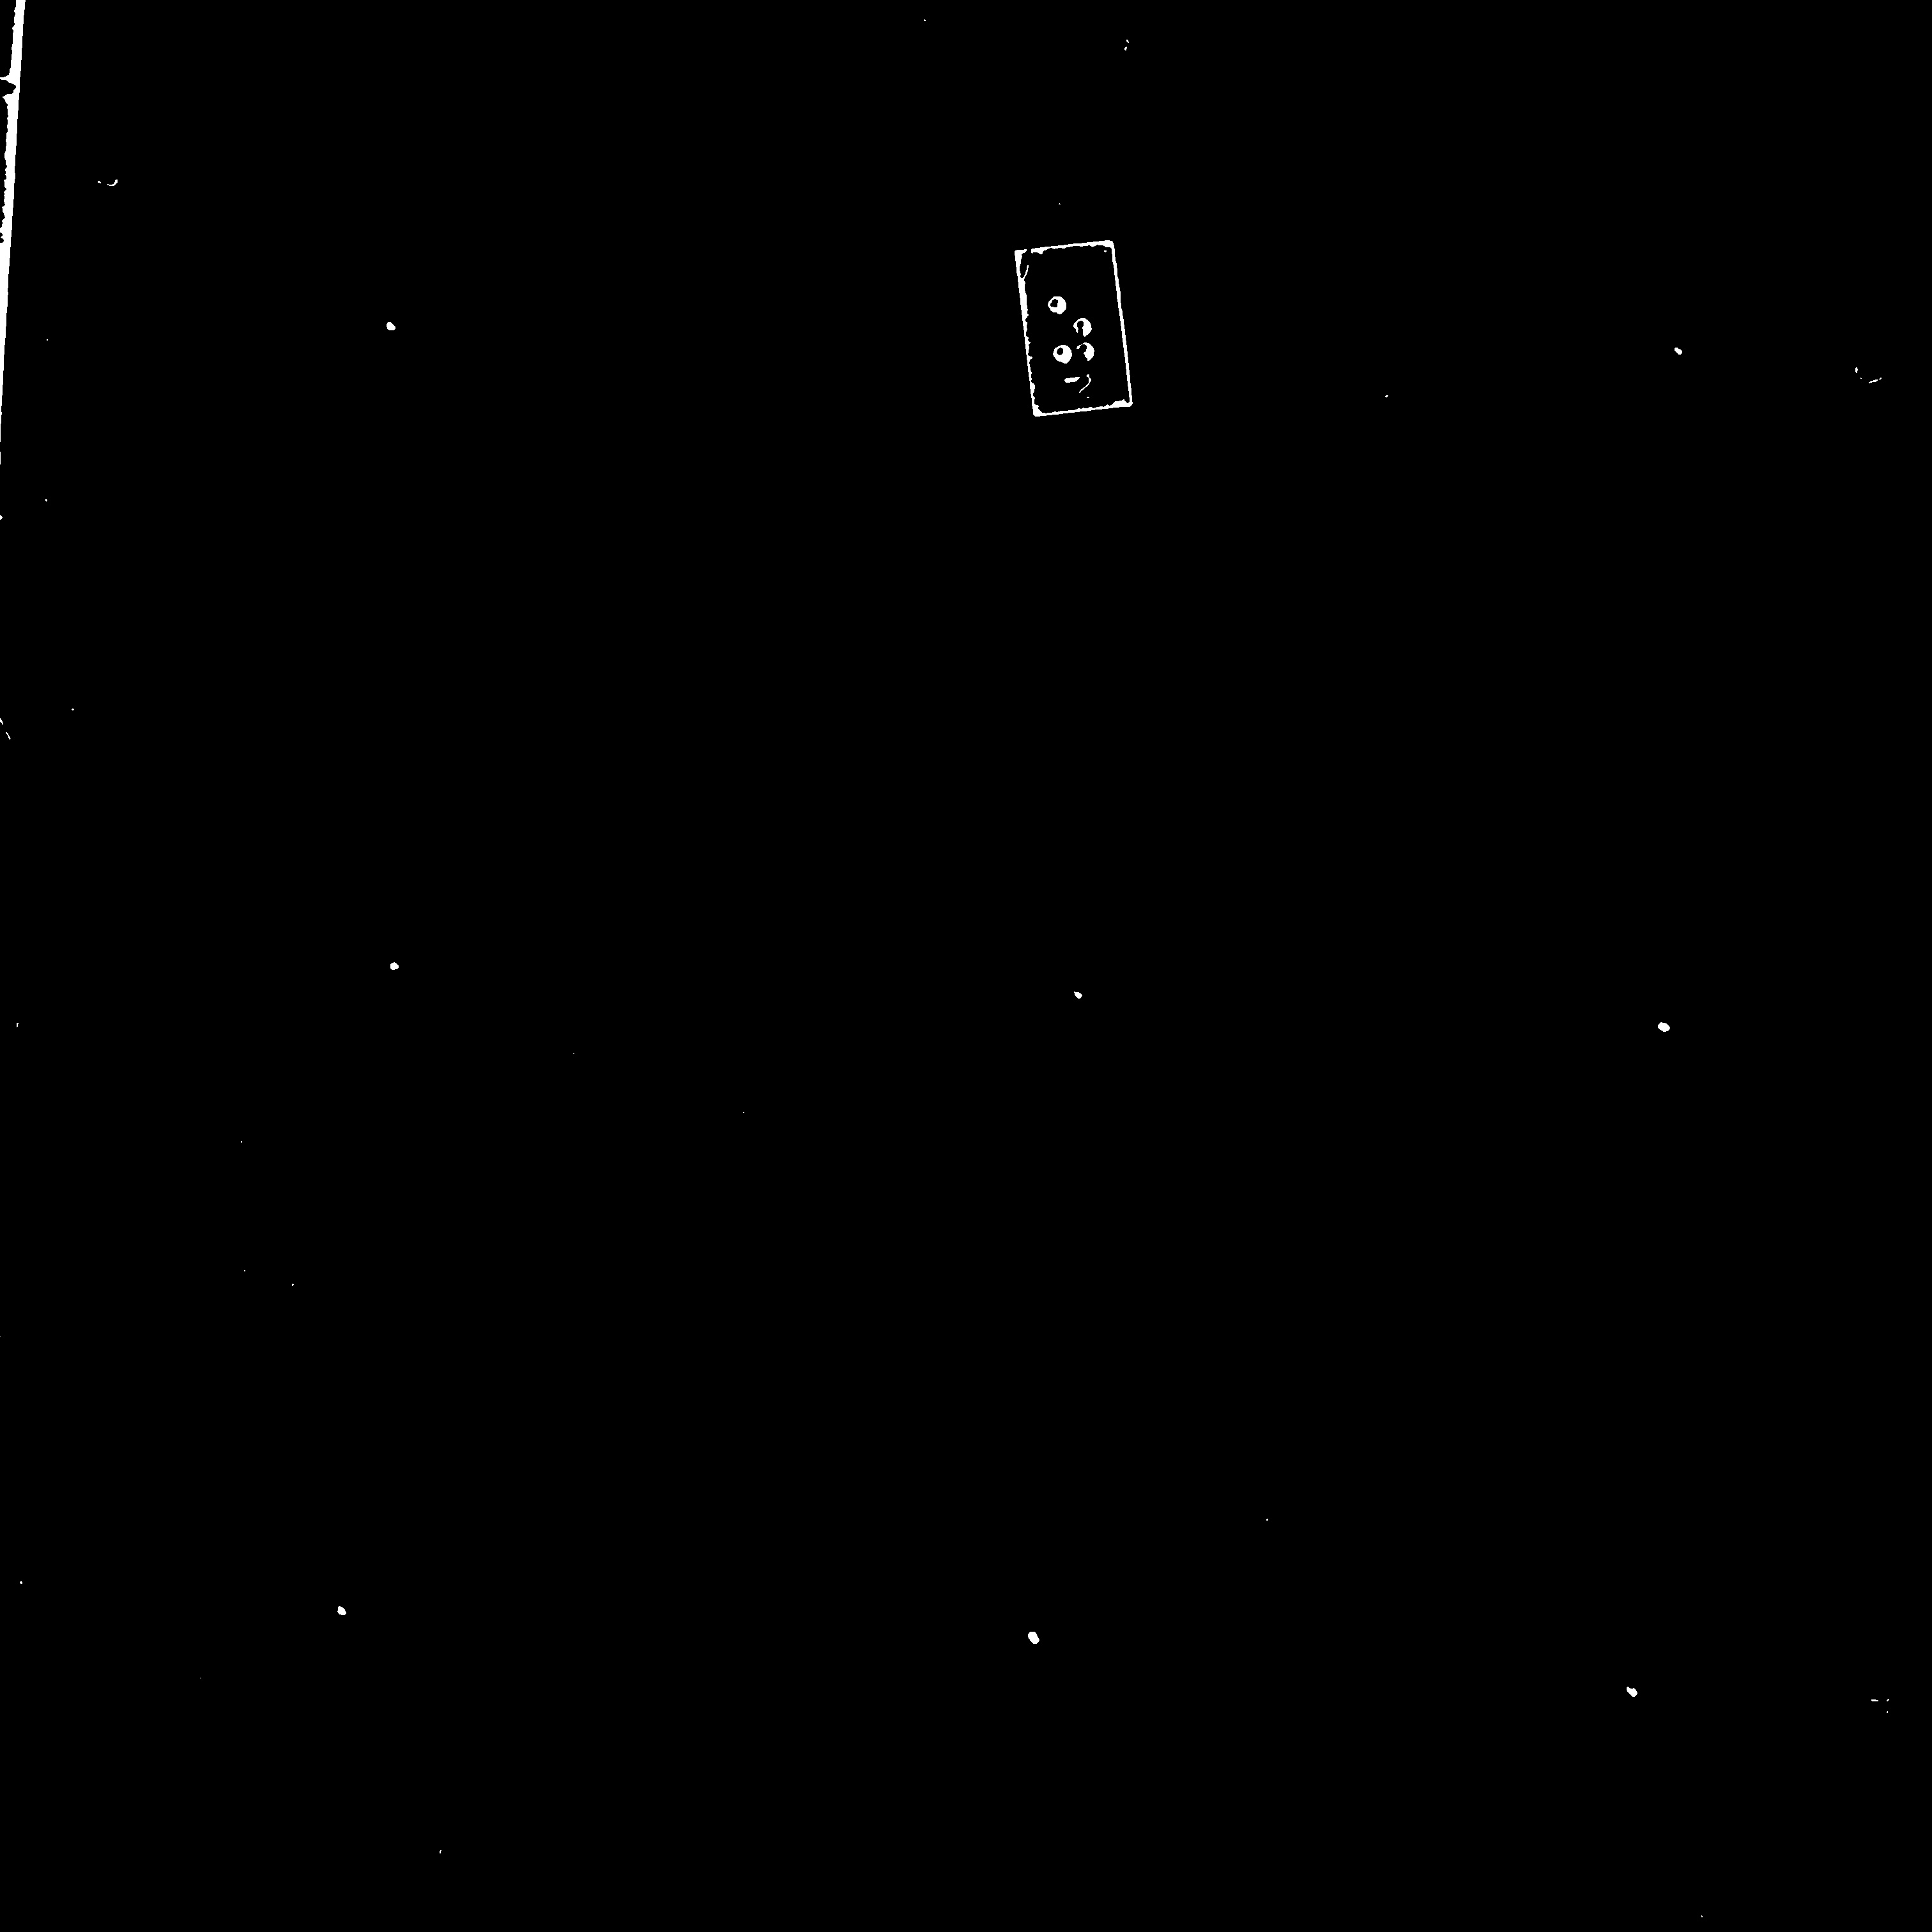z: (1038, 282, 1108, 376)
